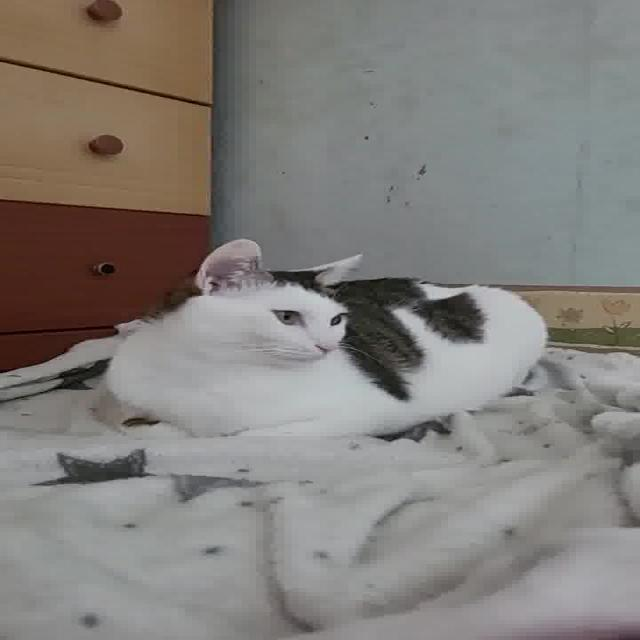cat: (95, 239, 554, 443)
